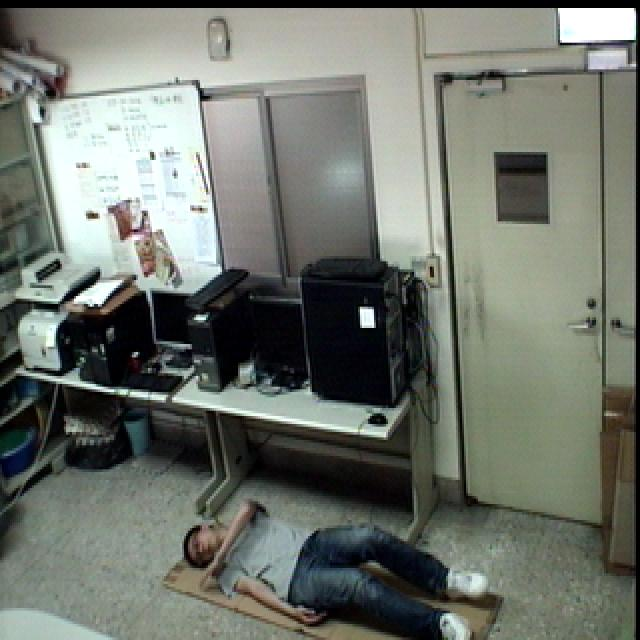lie: (178, 491, 493, 640)
